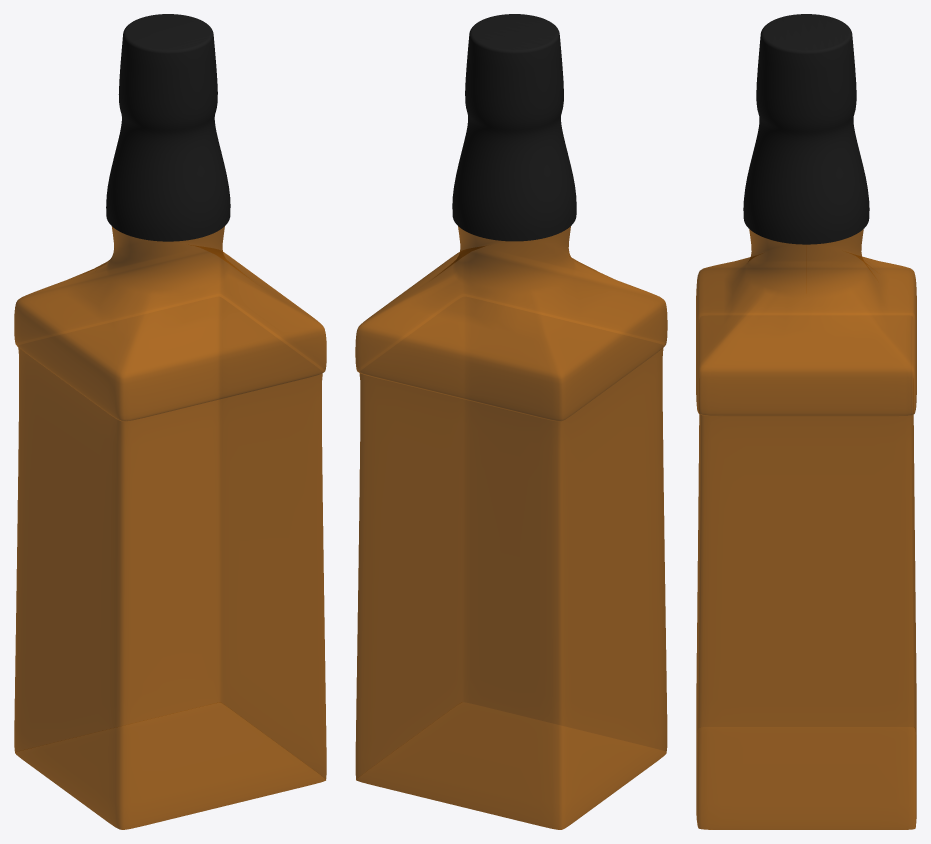
The model's file is whisky_bottle.glb.
3 views of the same model, side by side, from view 1: azimuth 30°, elevation 25°; view 2: azimuth 150°, elevation 25°; view 3: azimuth 270°, elevation 25° (orthographic).
Visible parts, largest first — view 1: Liquid, Lid; view 2: Liquid, Lid; view 3: Liquid, Lid.
Boxes of the visible parts, left/top/right/bottom form: Liquid: left=14, top=226, right=326, bottom=829; Lid: left=106, top=14, right=230, bottom=241; Liquid: left=355, top=226, right=667, bottom=829; Lid: left=452, top=14, right=576, bottom=241; Liquid: left=696, top=229, right=916, bottom=829; Lid: left=743, top=14, right=869, bottom=244.
Size of what is drawn, in the model's own units: 2.15 by 7.21 by 1.93.
